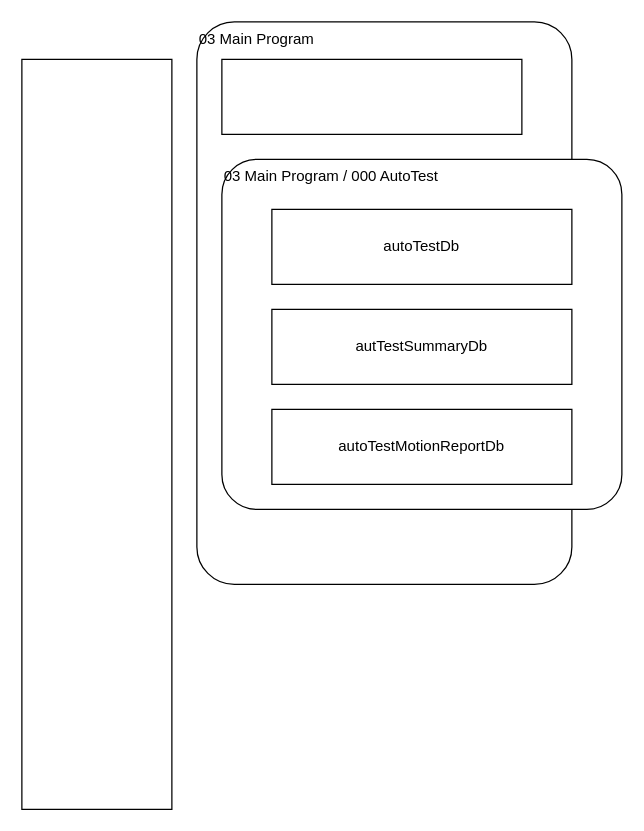
This 644x831 diagram has some shape labels left out. Each missing label, with the centre of its shape:
"Ob34CycleTimeMeasurementNanoDb" belongs at (x=371, y=96).
"S7" belongs at (x=96, y=433).
